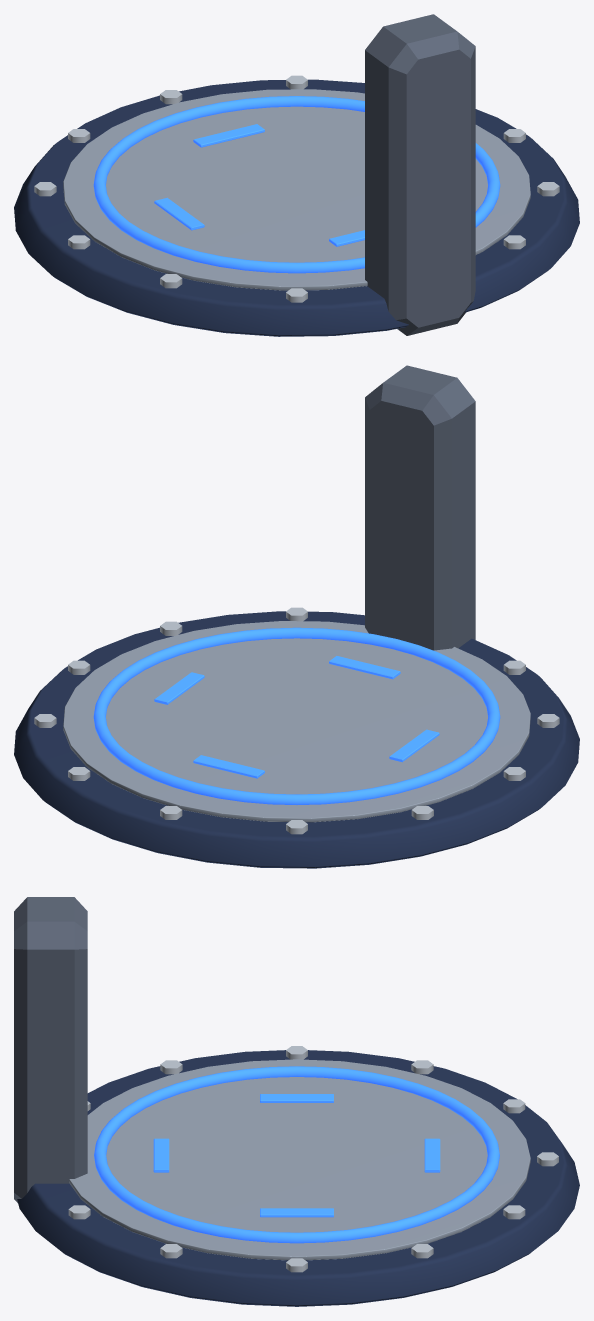
Rendered from socket_wall_empty.glb.
The picture shows the model from 3 angles, top to bottom: view 1: azimuth 30°, elevation 25°; view 2: azimuth 150°, elevation 25°; view 3: azimuth 270°, elevation 25°; orthographic projection.
Visible parts, largest first — view 1: socket_wall_empty_inlay, socket_wall_empty_plate, socket_wall_empty_stanchion, socket_wall_empty_ring, socket_wall_empty_bolts, socket_wall_empty_tick3, socket_wall_empty_tick2; view 2: socket_wall_empty_inlay, socket_wall_empty_plate, socket_wall_empty_stanchion, socket_wall_empty_ring, socket_wall_empty_bolts, socket_wall_empty_tick3, socket_wall_empty_tick1; view 3: socket_wall_empty_inlay, socket_wall_empty_plate, socket_wall_empty_stanchion, socket_wall_empty_ring, socket_wall_empty_bolts, socket_wall_empty_tick0, socket_wall_empty_tick2, socket_wall_empty_tick1, socket_wall_empty_tick3.
Boxes of the visible parts, x1,y1,x2,y2 form: socket_wall_empty_inlay: (63, 89, 530, 290); socket_wall_empty_plate: (14, 79, 579, 336); socket_wall_empty_stanchion: (365, 14, 475, 335); socket_wall_empty_ring: (93, 96, 500, 273); socket_wall_empty_bolts: (34, 75, 559, 302); socket_wall_empty_tick3: (193, 124, 264, 147); socket_wall_empty_tick2: (154, 197, 204, 230); socket_wall_empty_inlay: (63, 621, 530, 822); socket_wall_empty_plate: (14, 611, 579, 868); socket_wall_empty_stanchion: (365, 365, 475, 650); socket_wall_empty_ring: (93, 627, 500, 804); socket_wall_empty_bolts: (34, 607, 559, 834); socket_wall_empty_tick3: (193, 755, 264, 778); socket_wall_empty_tick1: (329, 656, 400, 679); socket_wall_empty_inlay: (69, 1059, 530, 1260); socket_wall_empty_plate: (17, 1050, 579, 1306); socket_wall_empty_stanchion: (14, 897, 87, 1202); socket_wall_empty_ring: (94, 1066, 499, 1243); socket_wall_empty_bolts: (68, 1046, 558, 1272); socket_wall_empty_tick0: (260, 1208, 333, 1217); socket_wall_empty_tick2: (260, 1094, 333, 1102); socket_wall_empty_tick1: (153, 1138, 169, 1172); socket_wall_empty_tick3: (424, 1138, 440, 1172).
Bounding box in the file's own units: 2.3 × 1.31 × 2.3.
